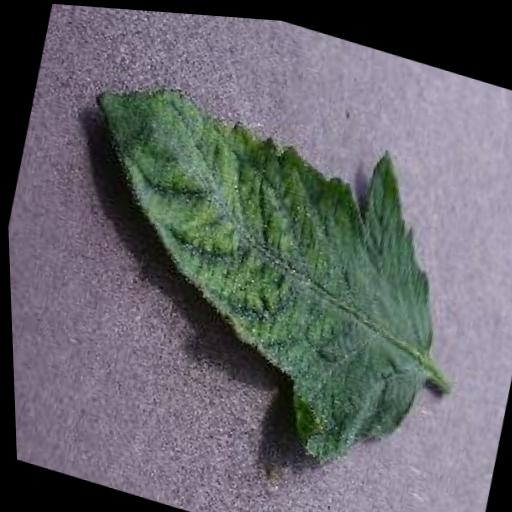Mosaic Virus: (26, 54, 473, 483)
